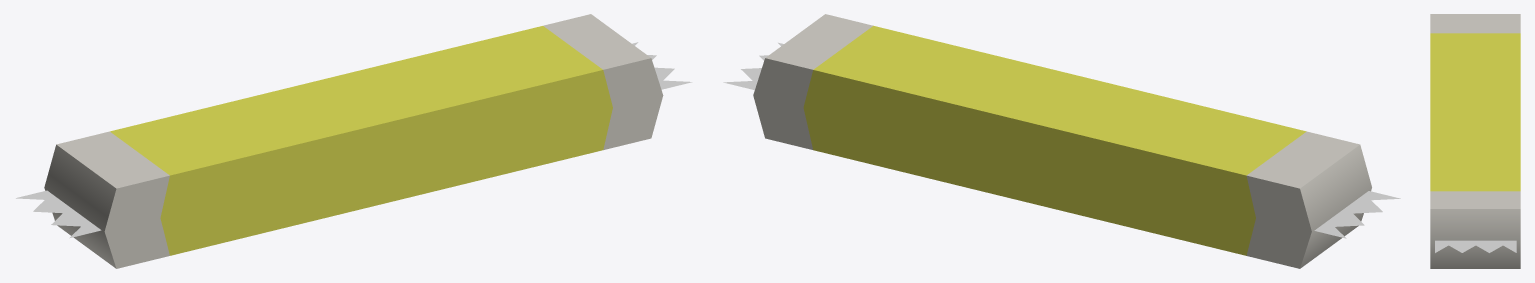
Rendered from SM_Single_Biscuits_Yellow.fbx.
The picture shows the model from 3 angles, left to right: view 1: azimuth 30°, elevation 25°; view 2: azimuth 150°, elevation 25°; view 3: azimuth 270°, elevation 25°; orthographic projection. The views are drawn at different scales.
Visible parts, largest first — view 1: pPlane8; view 2: pPlane8; view 3: pPlane8.
Part boxes in pixels (x1=…): pPlane8: x1=16, y1=14, x2=692, y2=268; pPlane8: x1=723, y1=14, x2=1400, y2=268; pPlane8: x1=1430, y1=14, x2=1520, y2=268.
Bounding box in the file's own units: 0.5139 × 0.0632 × 0.0859.
